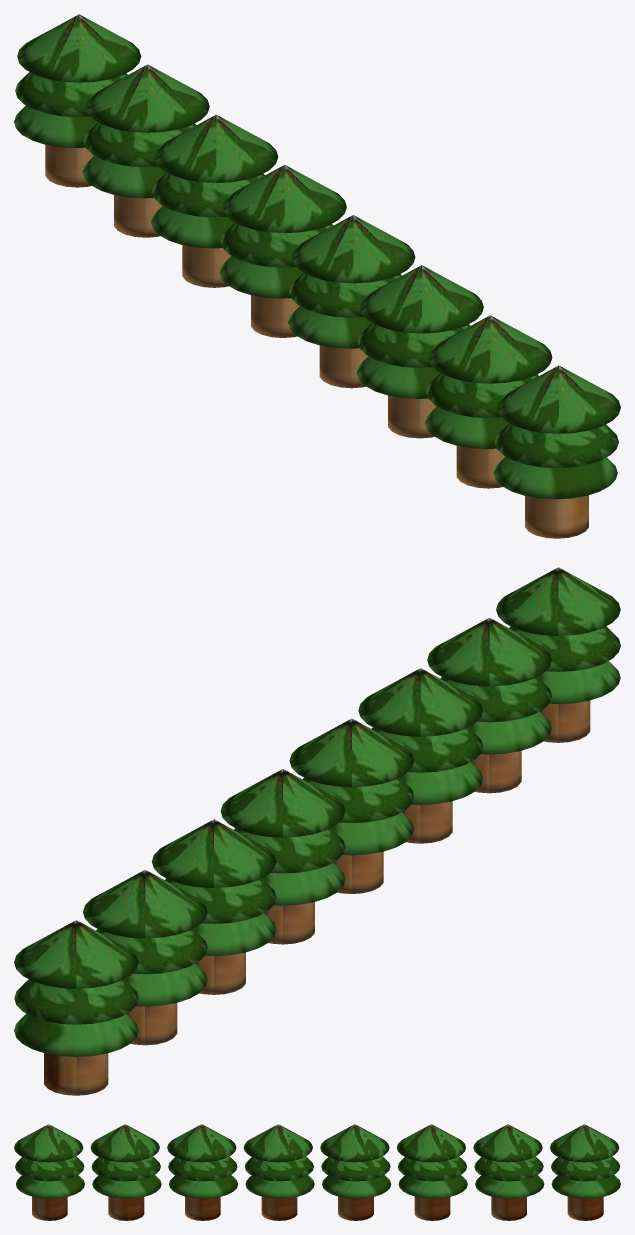
The model's file is Arboles.obj.
3 renders of one model, top to bottom at view 1: azimuth 30°, elevation 25°; view 2: azimuth 150°, elevation 25°; view 3: azimuth 270°, elevation 25°, orthographic. The views are drawn at different scales.
Visible parts, largest first — view 1: Arbol, Arbol003, Arbol006, Arbol004, Arbol005, Arbol007, Arbol002, Arbol001, Tronco, Tronco001, Tronco003, Tronco007 (+4 smaller); view 2: Arbol007, Arbol005, Arbol001, Arbol003, Arbol004, Arbol, Arbol002, Arbol006, Tronco007, Tronco006, Tronco, Tronco002 (+4 smaller); view 3: Arbol001, Arbol002, Arbol004, Arbol006, Arbol, Arbol003, Arbol005, Arbol007, Tronco003, Tronco005, Tronco007, Tronco001 (+4 smaller).
Part boxes in pixels (x1,y1,x2,y2): Arbol: (493, 365, 620, 499); Arbol003: (288, 215, 415, 348); Arbol006: (82, 64, 209, 198); Arbol004: (219, 165, 346, 298); Arbol005: (151, 114, 278, 248); Arbol007: (14, 14, 141, 148); Arbol002: (356, 265, 483, 398); Arbol001: (425, 315, 552, 448); Tronco: (525, 495, 588, 538); Tronco001: (456, 446, 505, 488); Tronco003: (319, 345, 368, 388); Tronco007: (45, 144, 93, 187); Arbol007: (14, 920, 138, 1056); Arbol005: (151, 819, 276, 956); Arbol001: (427, 617, 551, 754); Arbol003: (289, 718, 414, 855); Arbol004: (220, 769, 345, 905); Arbol: (496, 567, 620, 703); Arbol002: (358, 668, 483, 804); Arbol006: (83, 869, 207, 1006); Tronco007: (44, 1053, 108, 1095); Tronco006: (127, 1003, 177, 1045); Tronco: (540, 700, 590, 742); Tronco002: (402, 801, 452, 843); Arbol001: (90, 1124, 161, 1198); Arbol002: (167, 1124, 237, 1198); Arbol004: (320, 1124, 391, 1198); Arbol006: (473, 1124, 544, 1198); Arbol: (14, 1124, 84, 1198); Arbol003: (243, 1124, 314, 1198); Arbol005: (396, 1124, 467, 1198); Arbol007: (550, 1124, 620, 1198); Tronco003: (261, 1196, 297, 1220); Tronco005: (414, 1196, 450, 1220); Tronco007: (567, 1196, 603, 1220); Tronco001: (108, 1196, 144, 1220).
Bounding box in the file's own units: 11.53 × 16.18 × 99.46.
